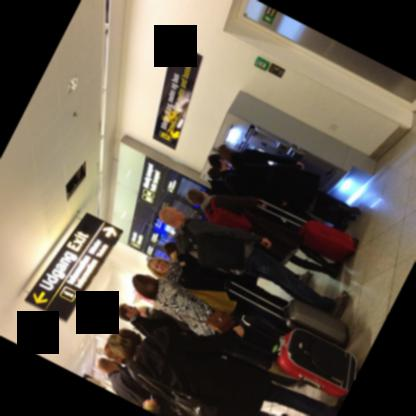backpack: (180, 217, 244, 269), (203, 196, 251, 230)
handbag: (137, 373, 218, 416), (234, 162, 320, 188), (161, 308, 232, 331)
suitcase: (240, 316, 357, 399), (223, 276, 349, 346), (257, 198, 358, 262)
